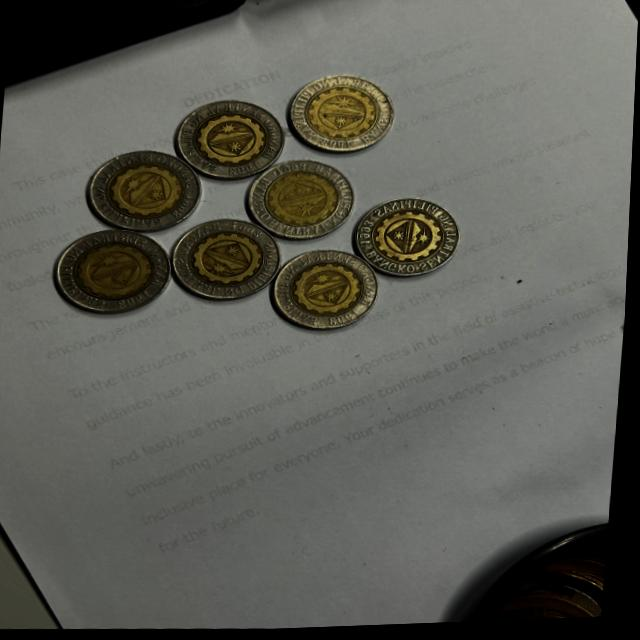10_Old_Back: (60, 229, 170, 323), (173, 222, 281, 301), (90, 153, 196, 230), (359, 198, 463, 276), (275, 252, 374, 332), (180, 105, 290, 176), (257, 168, 352, 240), (298, 81, 389, 156)
